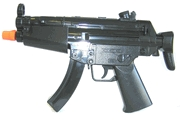rifle: (4, 1, 177, 117)
